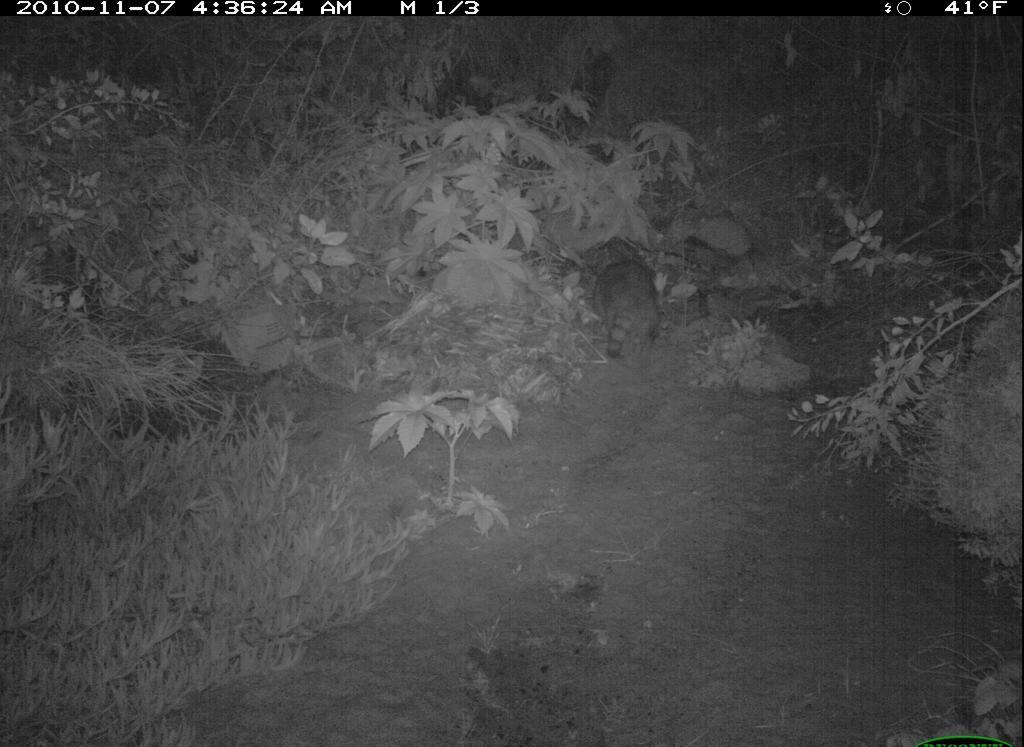raccoon: (588, 249, 670, 367)
